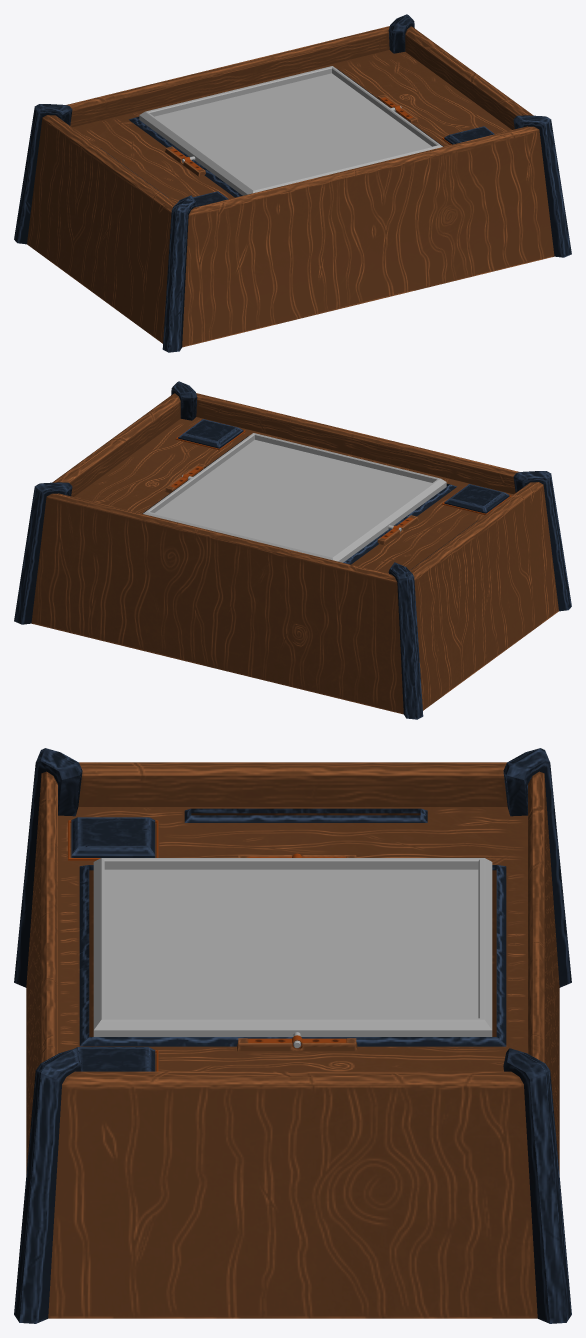
The model's file is EZ_OuterBoard 1.fbx.
The picture shows the model from 3 angles, top to bottom: view 1: azimuth 30°, elevation 25°; view 2: azimuth 150°, elevation 25°; view 3: azimuth 270°, elevation 25°; orthographic projection. The views are drawn at different scales.
Visible parts, largest first — view 1: Base, SpinFrame, PauseButtons; view 2: Base, SpinFrame, PauseButtons; view 3: Base, SpinFrame, PauseButtons.
Part boxes in pixels (x1,y1,x2,y2): Base: (14,14,571,352); SpinFrame: (139,66,442,195); PauseButtons: (176,126,495,206); Base: (14,381,571,719); SpinFrame: (143,433,446,562); PauseButtons: (175,419,511,514); Base: (14,748,571,1323); SpinFrame: (93,858,492,1048); PauseButtons: (68,817,158,1071).
Bounding box in the file's own units: 7.02 × 2.26 × 4.72.
